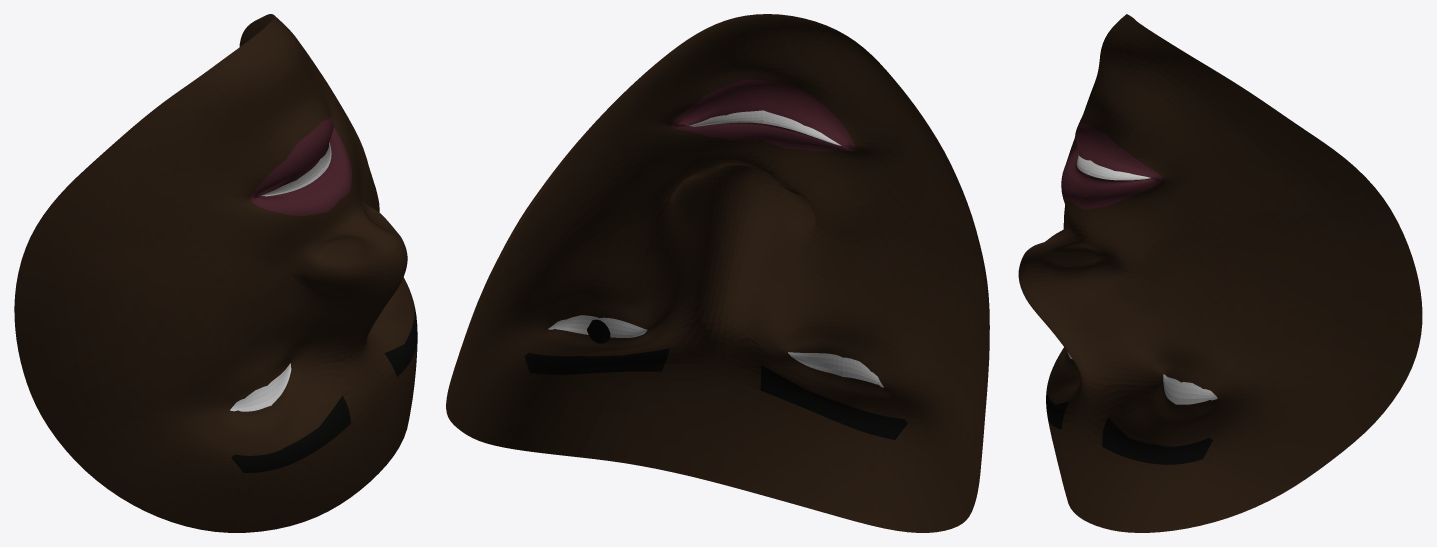
Rendered from frame_00060.obj.
3 views of the same model, side by side, from view 1: azimuth 30°, elevation 25°; view 2: azimuth 150°, elevation 25°; view 3: azimuth 270°, elevation 25° (orthographic). The views are drawn at different scales.
Parts seen in each view (by area): view 1: face_mesh_subdivided; view 2: face_mesh_subdivided; view 3: face_mesh_subdivided.
Boxes of the visible parts, x1=… form: face_mesh_subdivided: x1=14, y1=14, x2=417, y2=532; face_mesh_subdivided: x1=446, y1=14, x2=989, y2=532; face_mesh_subdivided: x1=1018, y1=14, x2=1422, y2=532.
Bounding box in the file's own units: 0.4956 × 0.5422 × 0.4251.
